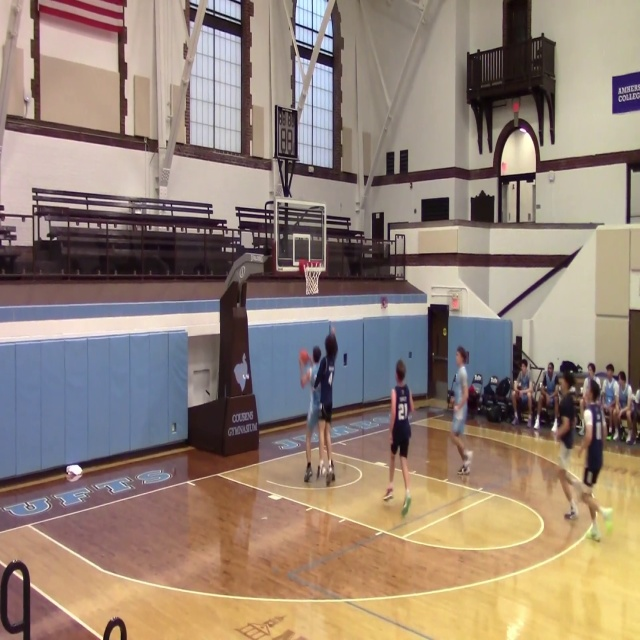Basketball: (66, 464, 82, 480), (325, 333, 337, 353), (301, 370, 310, 388), (299, 349, 309, 365), (313, 345, 321, 362)
